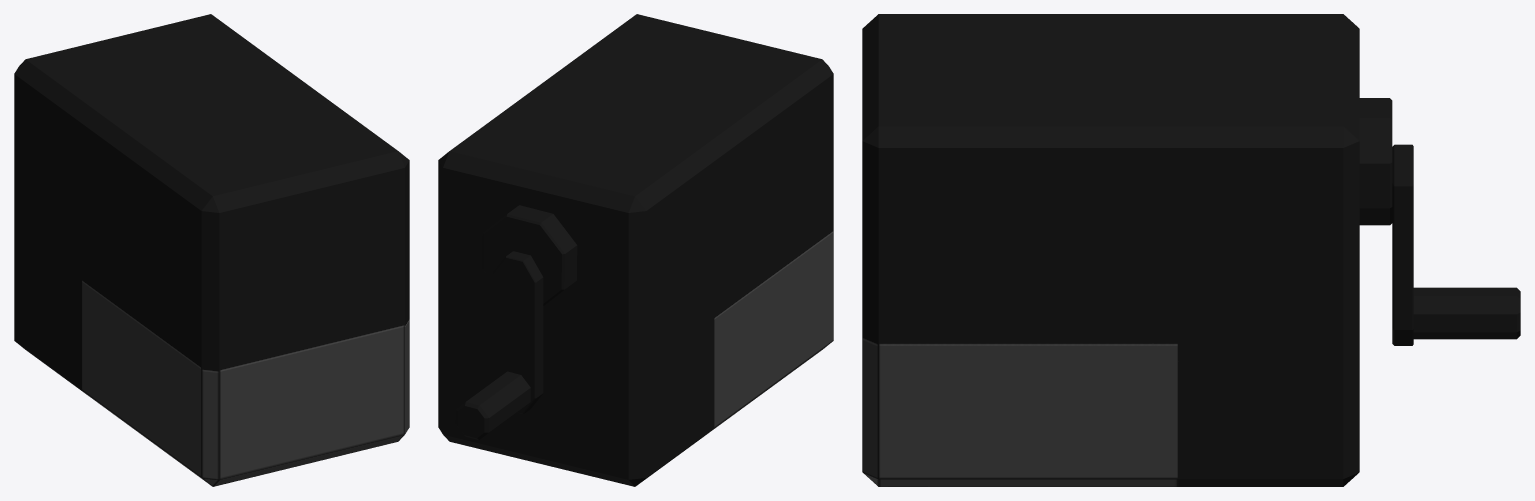
File: PedroHenriqueDias_Apontador.fbx
3 renders of one model, left to right at view 1: azimuth 30°, elevation 25°; view 2: azimuth 150°, elevation 25°; view 3: azimuth 270°, elevation 25°, orthographic. The views are drawn at different scales.
Visible parts, largest first — view 1: Cube; view 2: Cube; view 3: Cube.
Part boxes in pixels (<box>): Cube: <box>14,14,409,486</box>; Cube: <box>438,14,833,486</box>; Cube: <box>862,14,1520,486</box>.
Bounding box in the file's own units: 30 × 40 × 66.17.
